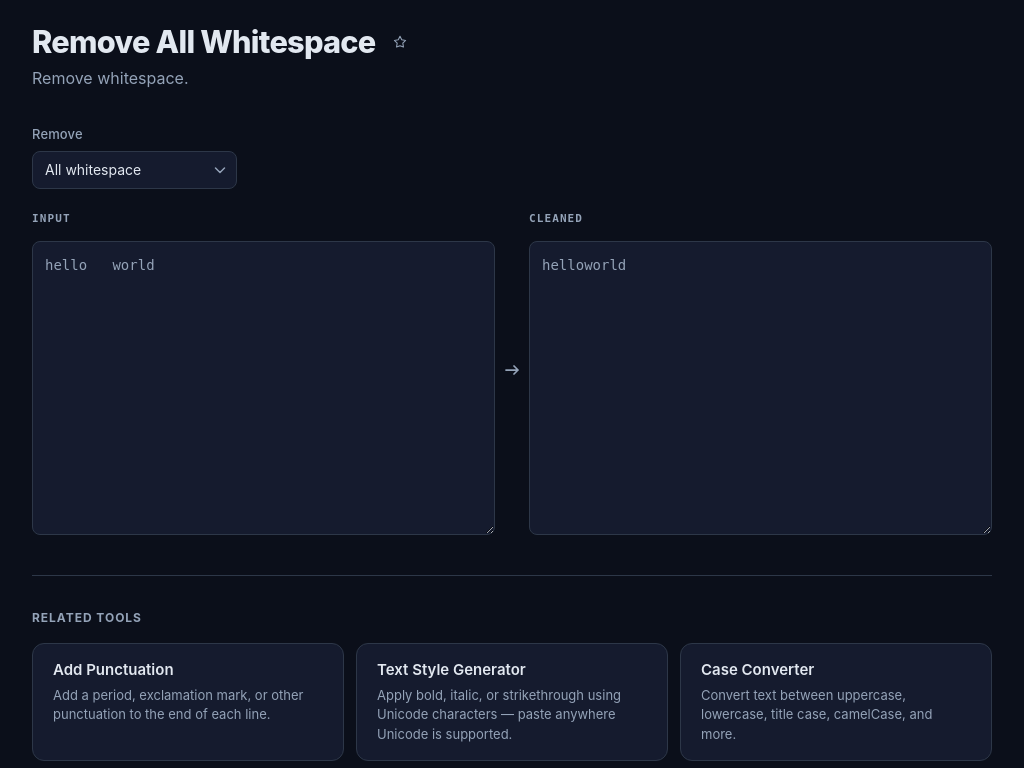
Test: RemoveAllWhitespace › collapses extra spaces when mode is extra
Select "Extra spaces (collapse)" in the dropdown: point(134, 170) [32,150,237,188]
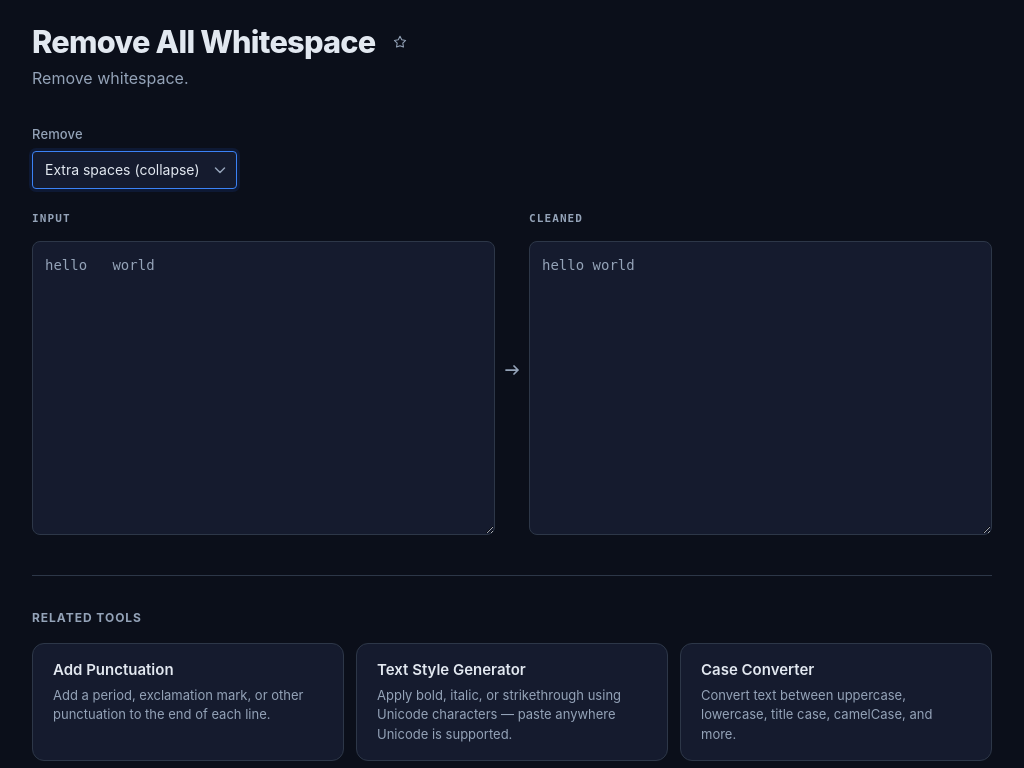
In the text box named "input": point(264, 388) [32,240,495,535], type "a  b  c"
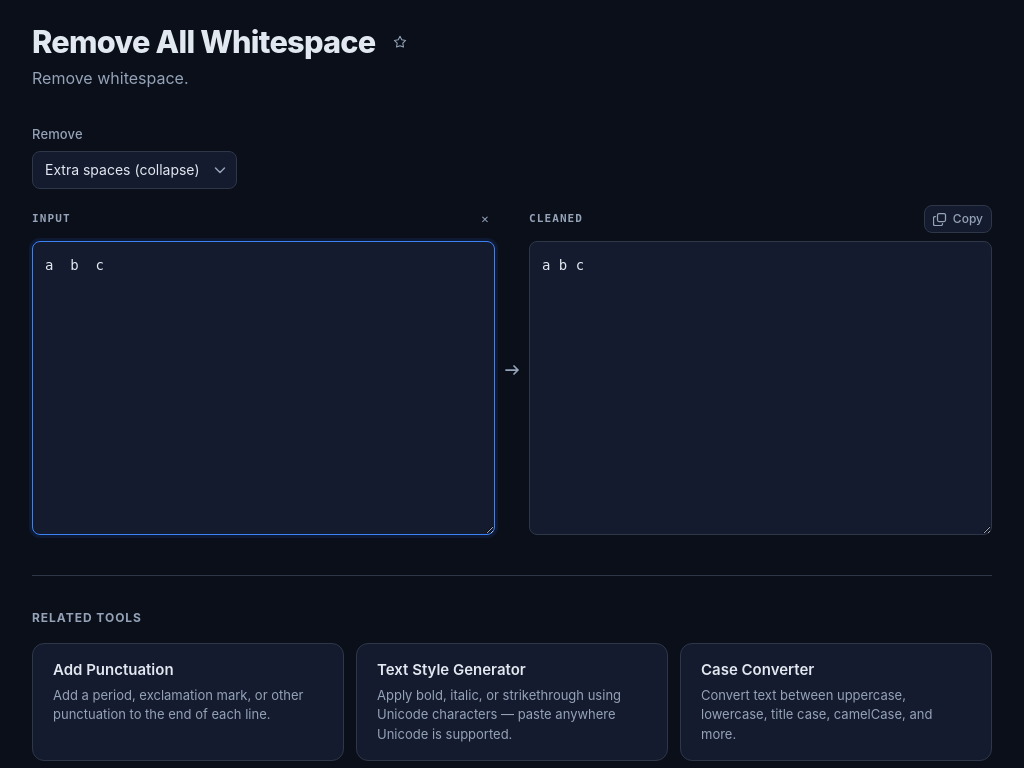
Check: the text box named "cleaned" holds "a b c", box [529,240,992,535]
